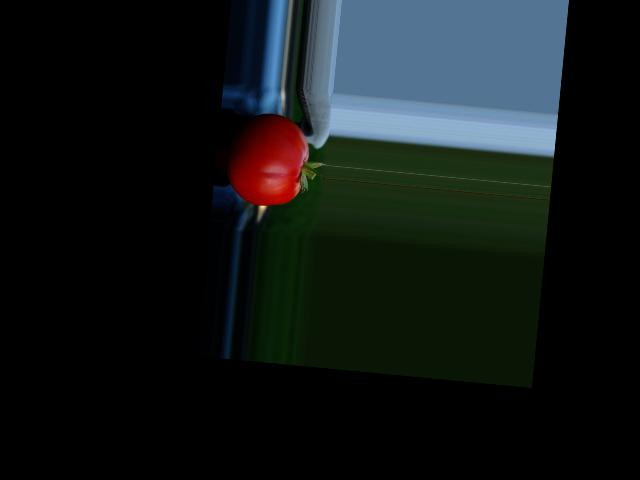tomato: (223, 110, 312, 209)
